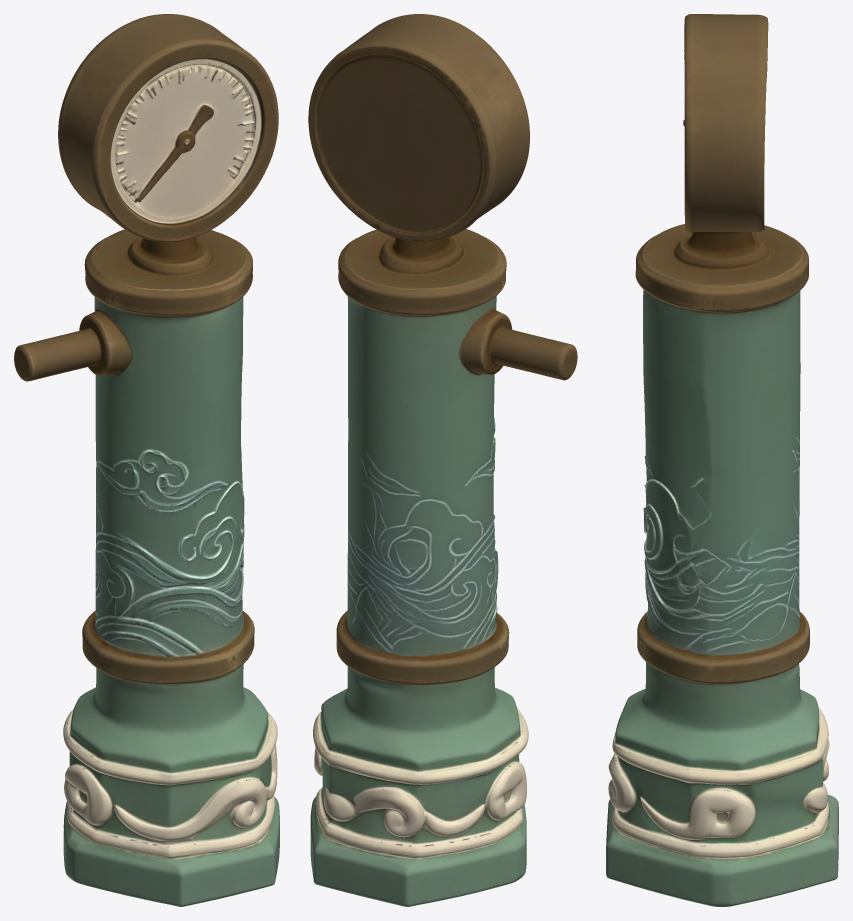
The model's file is act1_drain_gate_rodin.glb.
3 renders of one model, left to right at view 1: azimuth 30°, elevation 25°; view 2: azimuth 150°, elevation 25°; view 3: azimuth 270°, elevation 25°, orthographic.
Visible parts, largest first — view 1: SM_Act1_DrainGateRodin; view 2: SM_Act1_DrainGateRodin; view 3: SM_Act1_DrainGateRodin.
Part boxes in pixels (box(x1,y1,x2,y2)): SM_Act1_DrainGateRodin: box(14, 14, 279, 906); SM_Act1_DrainGateRodin: box(308, 14, 577, 906); SM_Act1_DrainGateRodin: box(606, 14, 838, 906).
Bounding box in the file's own units: 0.6794 × 2.12 × 0.5368.
Materials: 1 (1 with a texture image).
